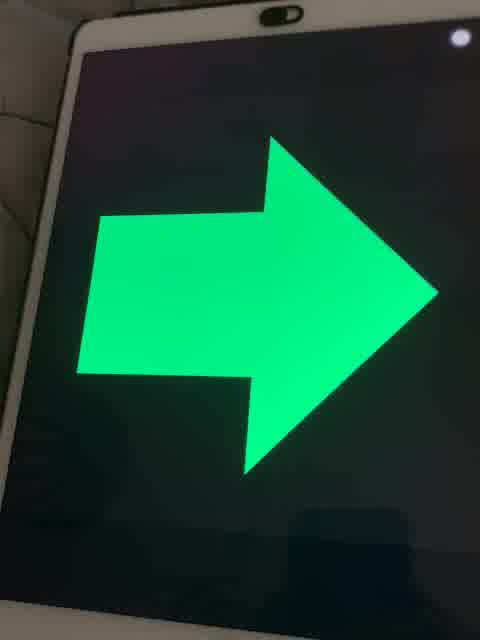right: (76, 124, 442, 476)
